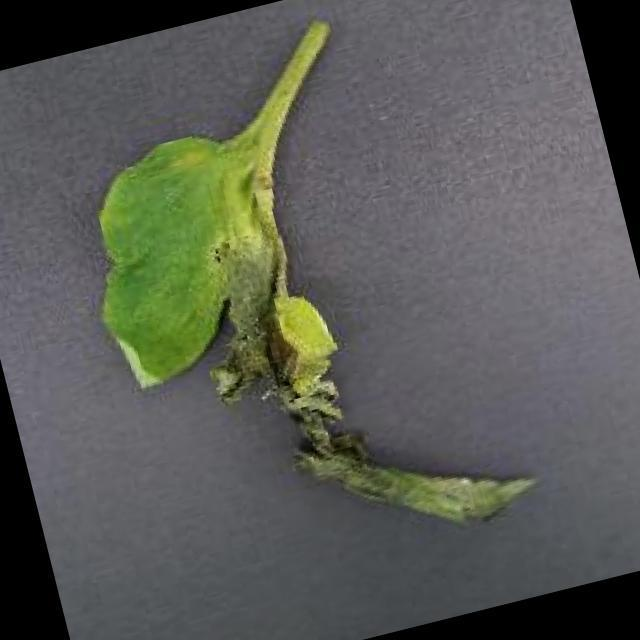Tomato late blight leaf: (60, 68, 548, 602)
